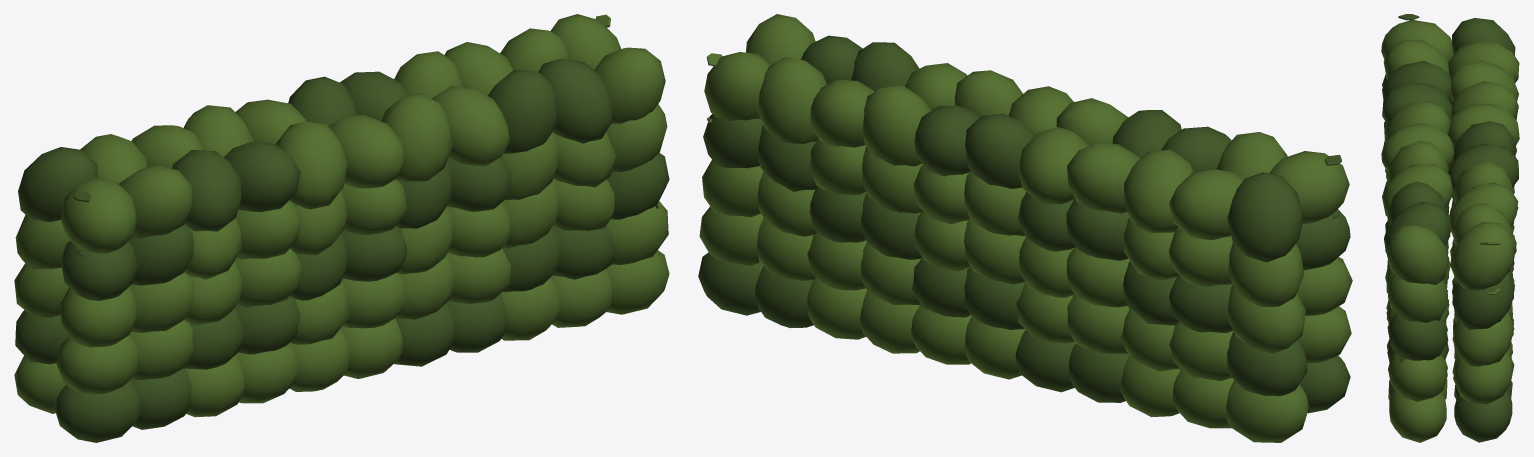
File: hedge.glb
3 views of the same model, side by side, from view 1: azimuth 30°, elevation 25°; view 2: azimuth 150°, elevation 25°; view 3: azimuth 270°, elevation 25° (orthographic). The views are drawn at different scales.
Parts seen in each view (by area): view 1: hedge-farm-leaf, hedge-farm-leaf-dark; view 2: hedge-farm-leaf, hedge-farm-leaf-dark; view 3: hedge-farm-leaf, hedge-farm-leaf-dark.
Part boxes in pixels (left/top/right/bottom): hedge-farm-leaf: left=14, top=14, right=669, bottom=417; hedge-farm-leaf-dark: left=15, top=58, right=669, bottom=442; hedge-farm-leaf: left=699, top=14, right=1352, bottom=442; hedge-farm-leaf-dark: left=698, top=35, right=1350, bottom=413; hedge-farm-leaf: left=1381, top=20, right=1519, bottom=442; hedge-farm-leaf-dark: left=1382, top=14, right=1518, bottom=442.
Size of the model in its own units: 4.86 by 2.02 by 1.18.
